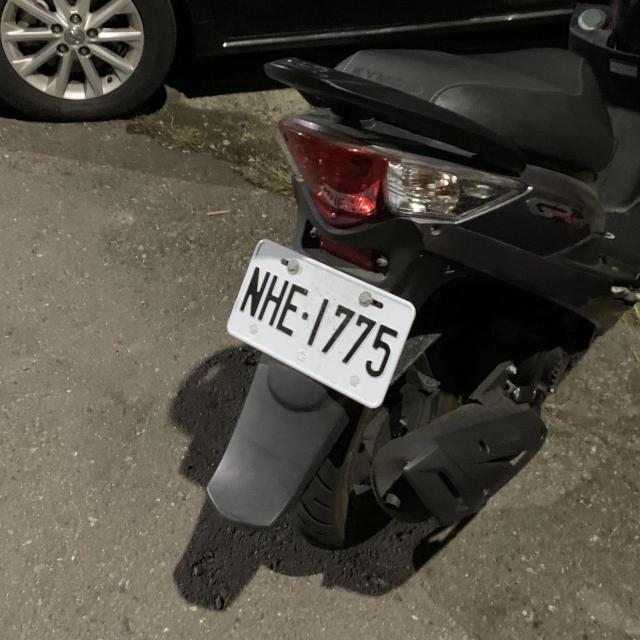W: (214, 227, 424, 411)
